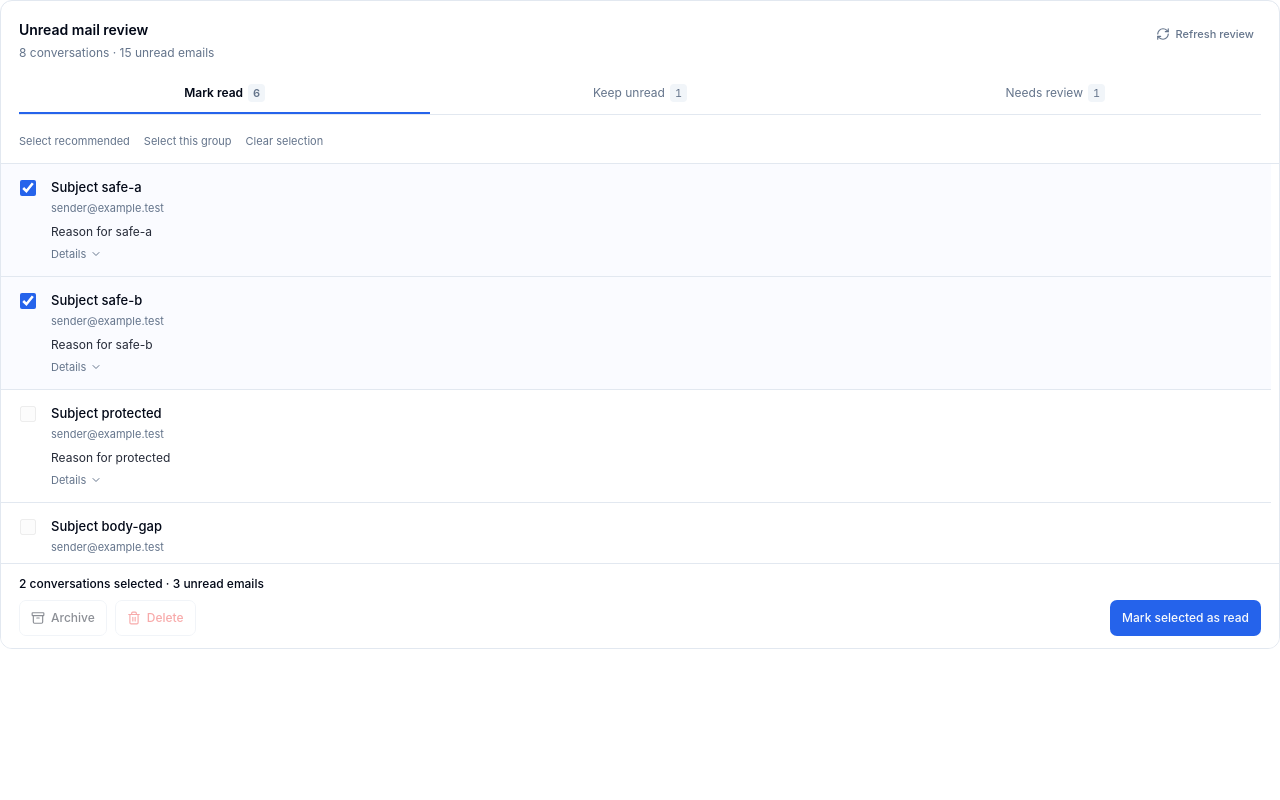
Assistant unread review card › filters recommendations, keeps protected mail visible and keeps counts separate from selection
Click the button "Keep unread 1" at point(640, 94), box left=434, top=74, right=846, bottom=114
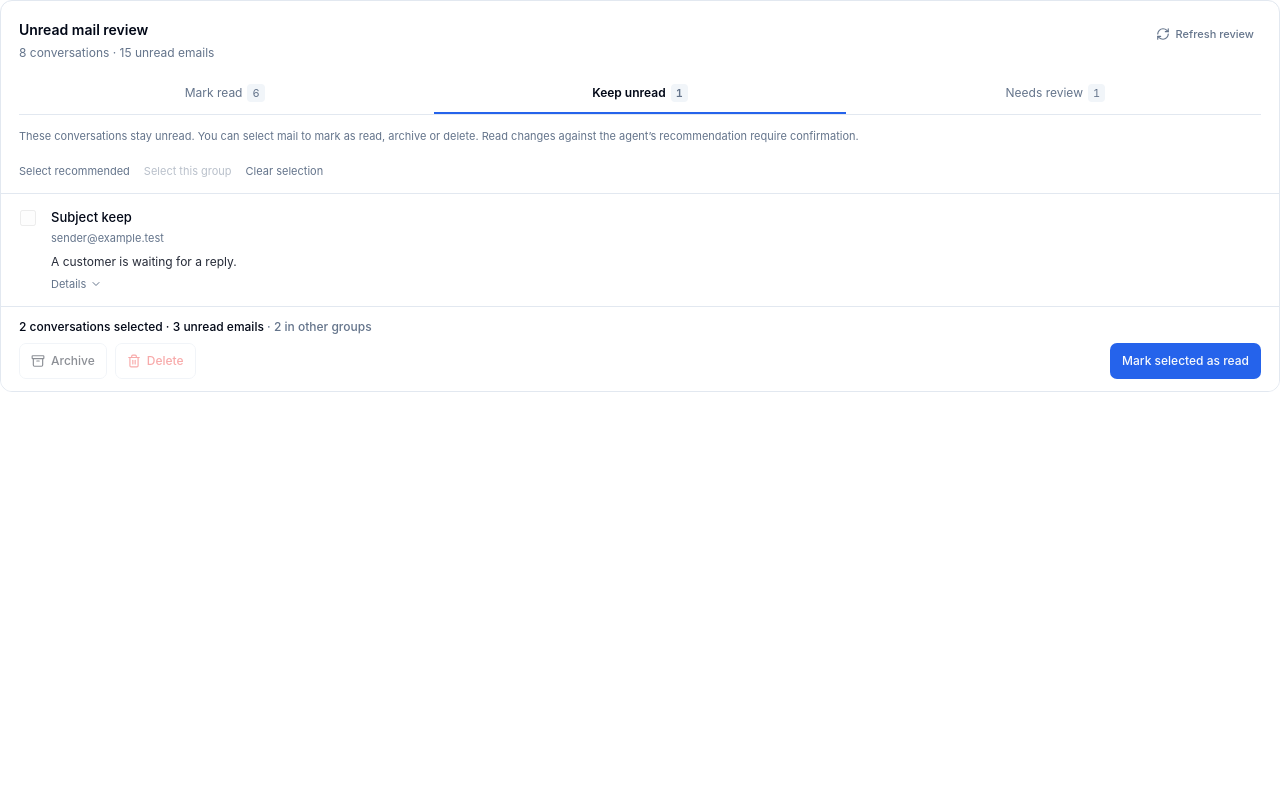
Now the element named "Reviewed conversations" shows "A customer is waiting for a reply.", box left=51, top=254, right=237, bottom=269
Click the button "Needs review 1" at point(1055, 94), box left=850, top=74, right=1261, bottom=114
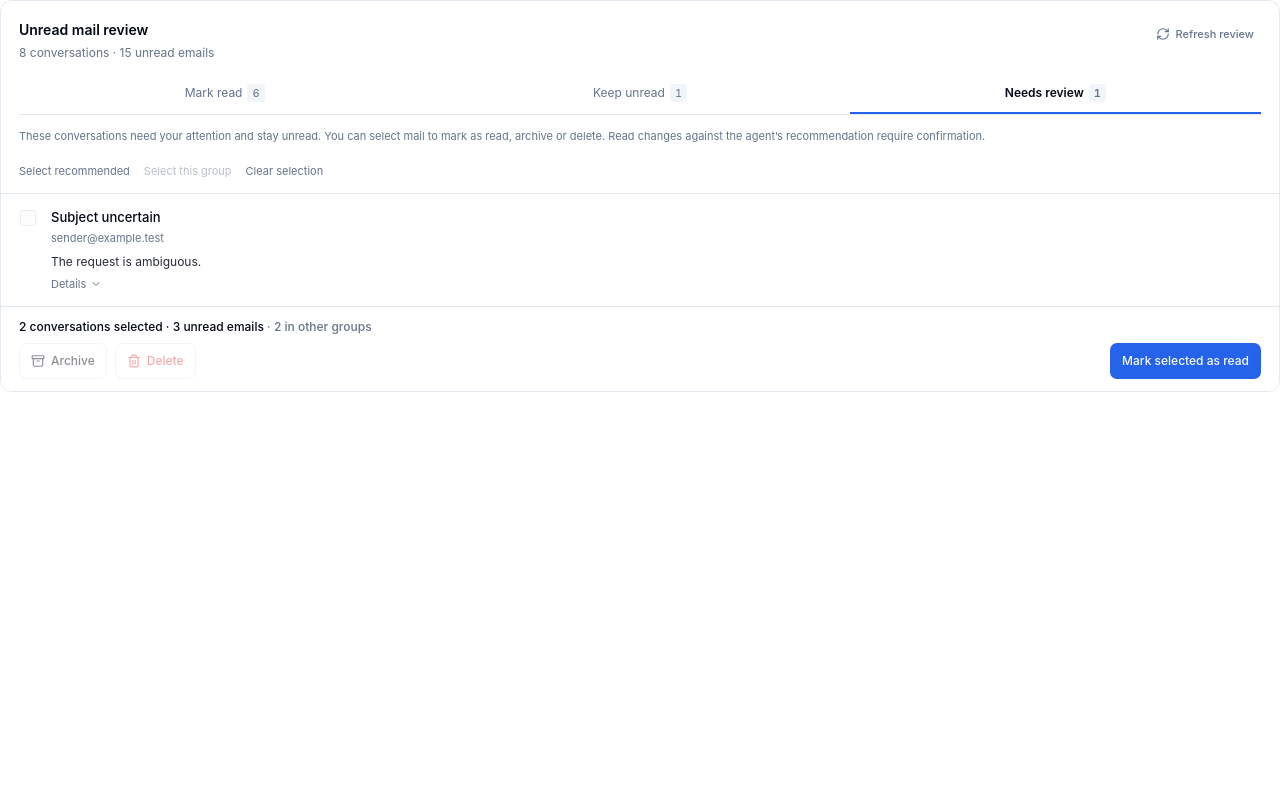
Expected: the text "2 conversations selected · 3 unread emails" is shown, left=19, top=319, right=372, bottom=334
Now the element named "Reviewed conversations" shows "The request is ambiguous.", box left=51, top=254, right=201, bottom=269
